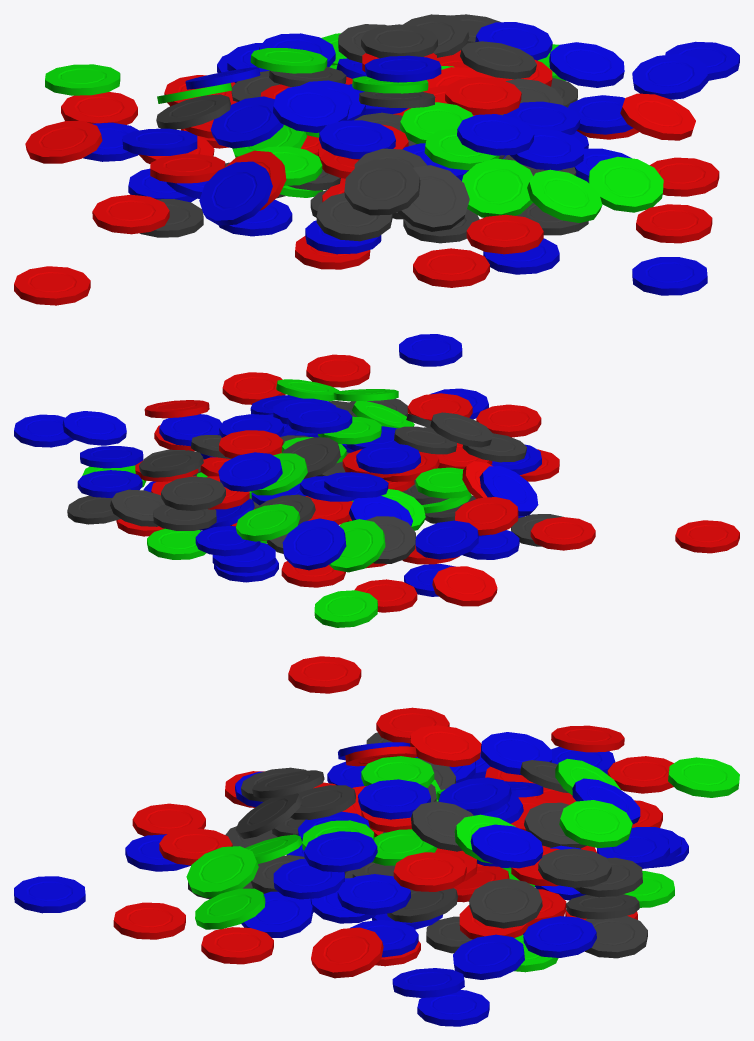
Rendered from PokerChip_p1.fbx.
The picture shows the model from 3 angles, top to bottom: view 1: azimuth 30°, elevation 25°; view 2: azimuth 150°, elevation 25°; view 3: azimuth 270°, elevation 25°; orthographic projection. The views are drawn at different scales.
Parts seen in each view (by area): view 1: PokerChip_p1; view 2: PokerChip_p1; view 3: PokerChip_p1.
Part boxes in pixels (left/top/right/bottom): PokerChip_p1: left=14, top=14, right=739, bottom=305; PokerChip_p1: left=14, top=334, right=739, bottom=627; PokerChip_p1: left=14, top=656, right=739, bottom=1026.
Size of the model in its own units: 293 by 20.58 by 247.
